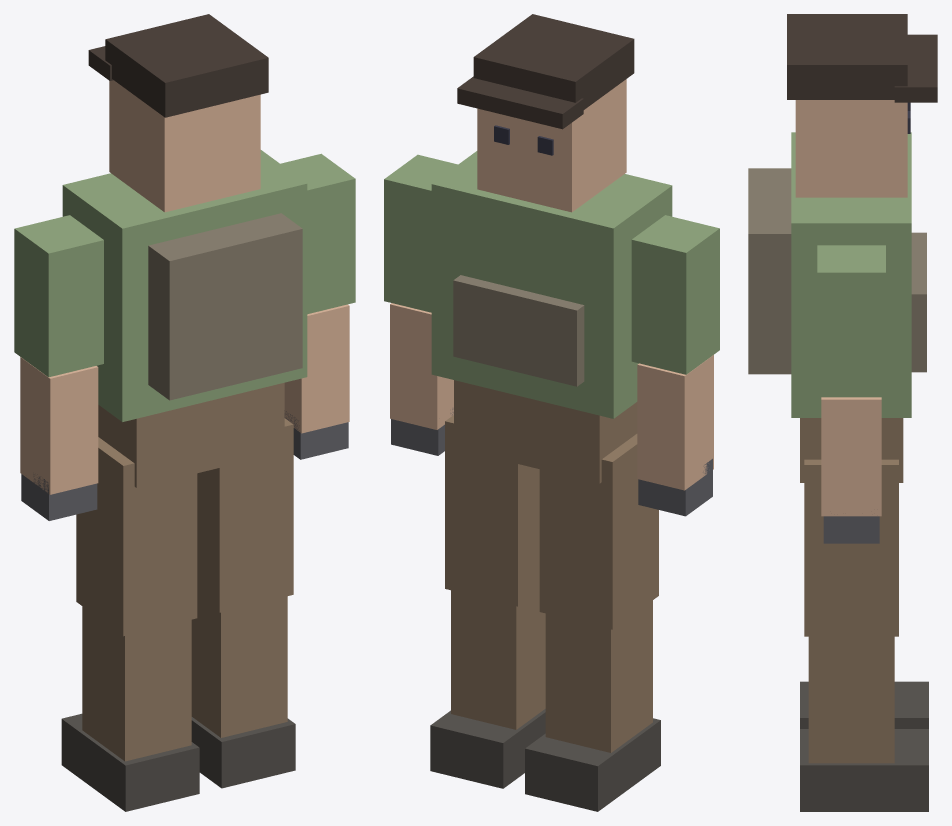
The model's file is player.glb.
The picture shows the model from 3 angles, left to right: view 1: azimuth 30°, elevation 25°; view 2: azimuth 150°, elevation 25°; view 3: azimuth 270°, elevation 25°; orthographic projection. The views are drawn at different scales.
Visible parts, largest first — view 1: TorsoMesh, HeadMesh, ShinL, ThighL, ShinR, ThighR, UpperArmL, PelvisMesh, ForearmL, ForearmR, UpperArmR; view 2: TorsoMesh, HeadMesh, ShinL, ShinR, ThighL, ThighR, UpperArmL, PelvisMesh, ForearmL, ForearmR, UpperArmR; view 3: TorsoMesh, HeadMesh, ShinR, ThighR, UpperArmR, ForearmR, PelvisMesh, ShinL.
Boxes of the visible parts, x1,y1,x2,y2 form: TorsoMesh: [62, 150, 307, 421]; HeadMesh: [88, 14, 268, 212]; ShinL: [61, 606, 199, 811]; ThighL: [76, 437, 197, 636]; ShinR: [191, 596, 295, 788]; ThighR: [197, 418, 293, 612]; UpperArmL: [14, 215, 103, 377]; PelvisMesh: [98, 382, 284, 487]; ForearmL: [20, 357, 98, 520]; ForearmR: [284, 304, 349, 459]; UpperArmR: [280, 153, 355, 314]; TorsoMesh: [431, 151, 672, 418]; HeadMesh: [457, 14, 634, 212]; ShinL: [525, 600, 660, 811]; ShinR: [430, 590, 545, 788]; ThighL: [539, 434, 658, 629]; ThighR: [445, 415, 539, 606]; UpperArmL: [631, 215, 719, 374]; PelvisMesh: [454, 380, 637, 483]; ForearmL: [637, 355, 713, 516]; ForearmR: [390, 303, 453, 455]; UpperArmR: [384, 154, 457, 312]; TorsoMesh: [748, 132, 926, 417]; HeadMesh: [787, 14, 937, 197]; ShinR: [800, 636, 928, 811]; ThighR: [804, 459, 898, 636]; UpperArmR: [817, 245, 885, 397]; ForearmR: [821, 397, 881, 543]; PelvisMesh: [800, 418, 903, 482]; ShinL: [800, 681, 928, 728].
Bounding box in the file's own units: 0.83 × 1.88 × 0.44.
